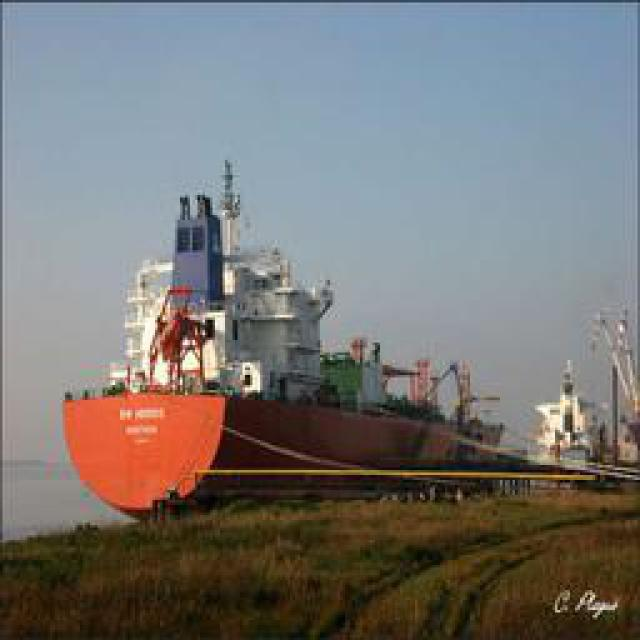Ship: (54, 141, 584, 511)
